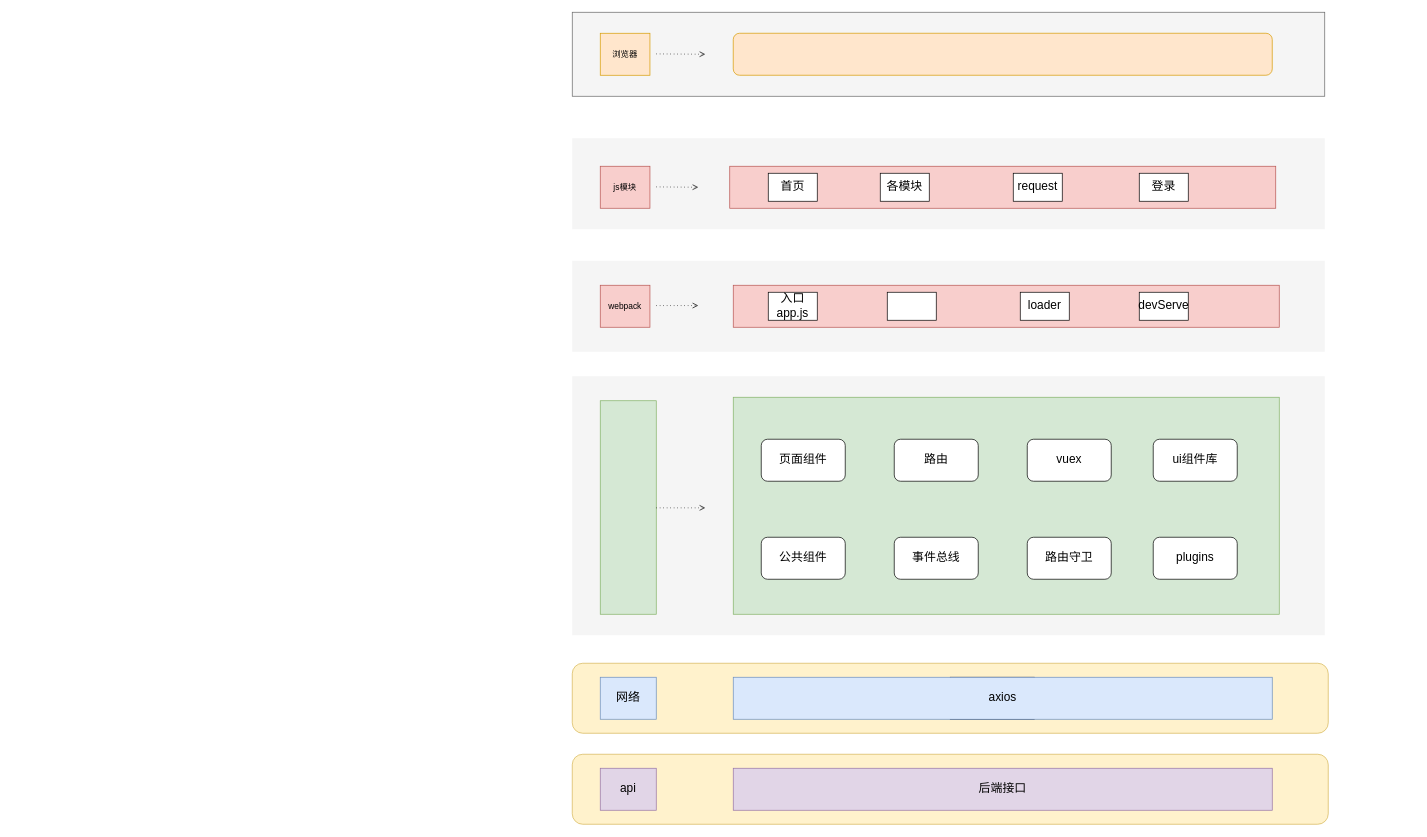
Some shapes in this 1427 by 837 pixel diagram are drawn without their labels. Each missing label, with the box of its shape:
build.js: (887, 292, 936, 320)
html/css/js(spa应用，各模块得按需加载): (733, 33, 1272, 75)
vue: (600, 400, 656, 614)
